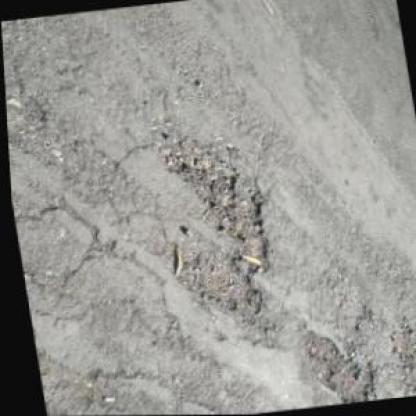pothole: (147, 132, 280, 330), (377, 312, 415, 398)
